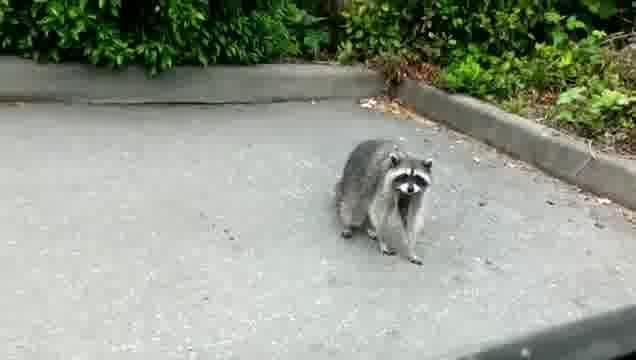raccoon: (333, 137, 434, 268)
